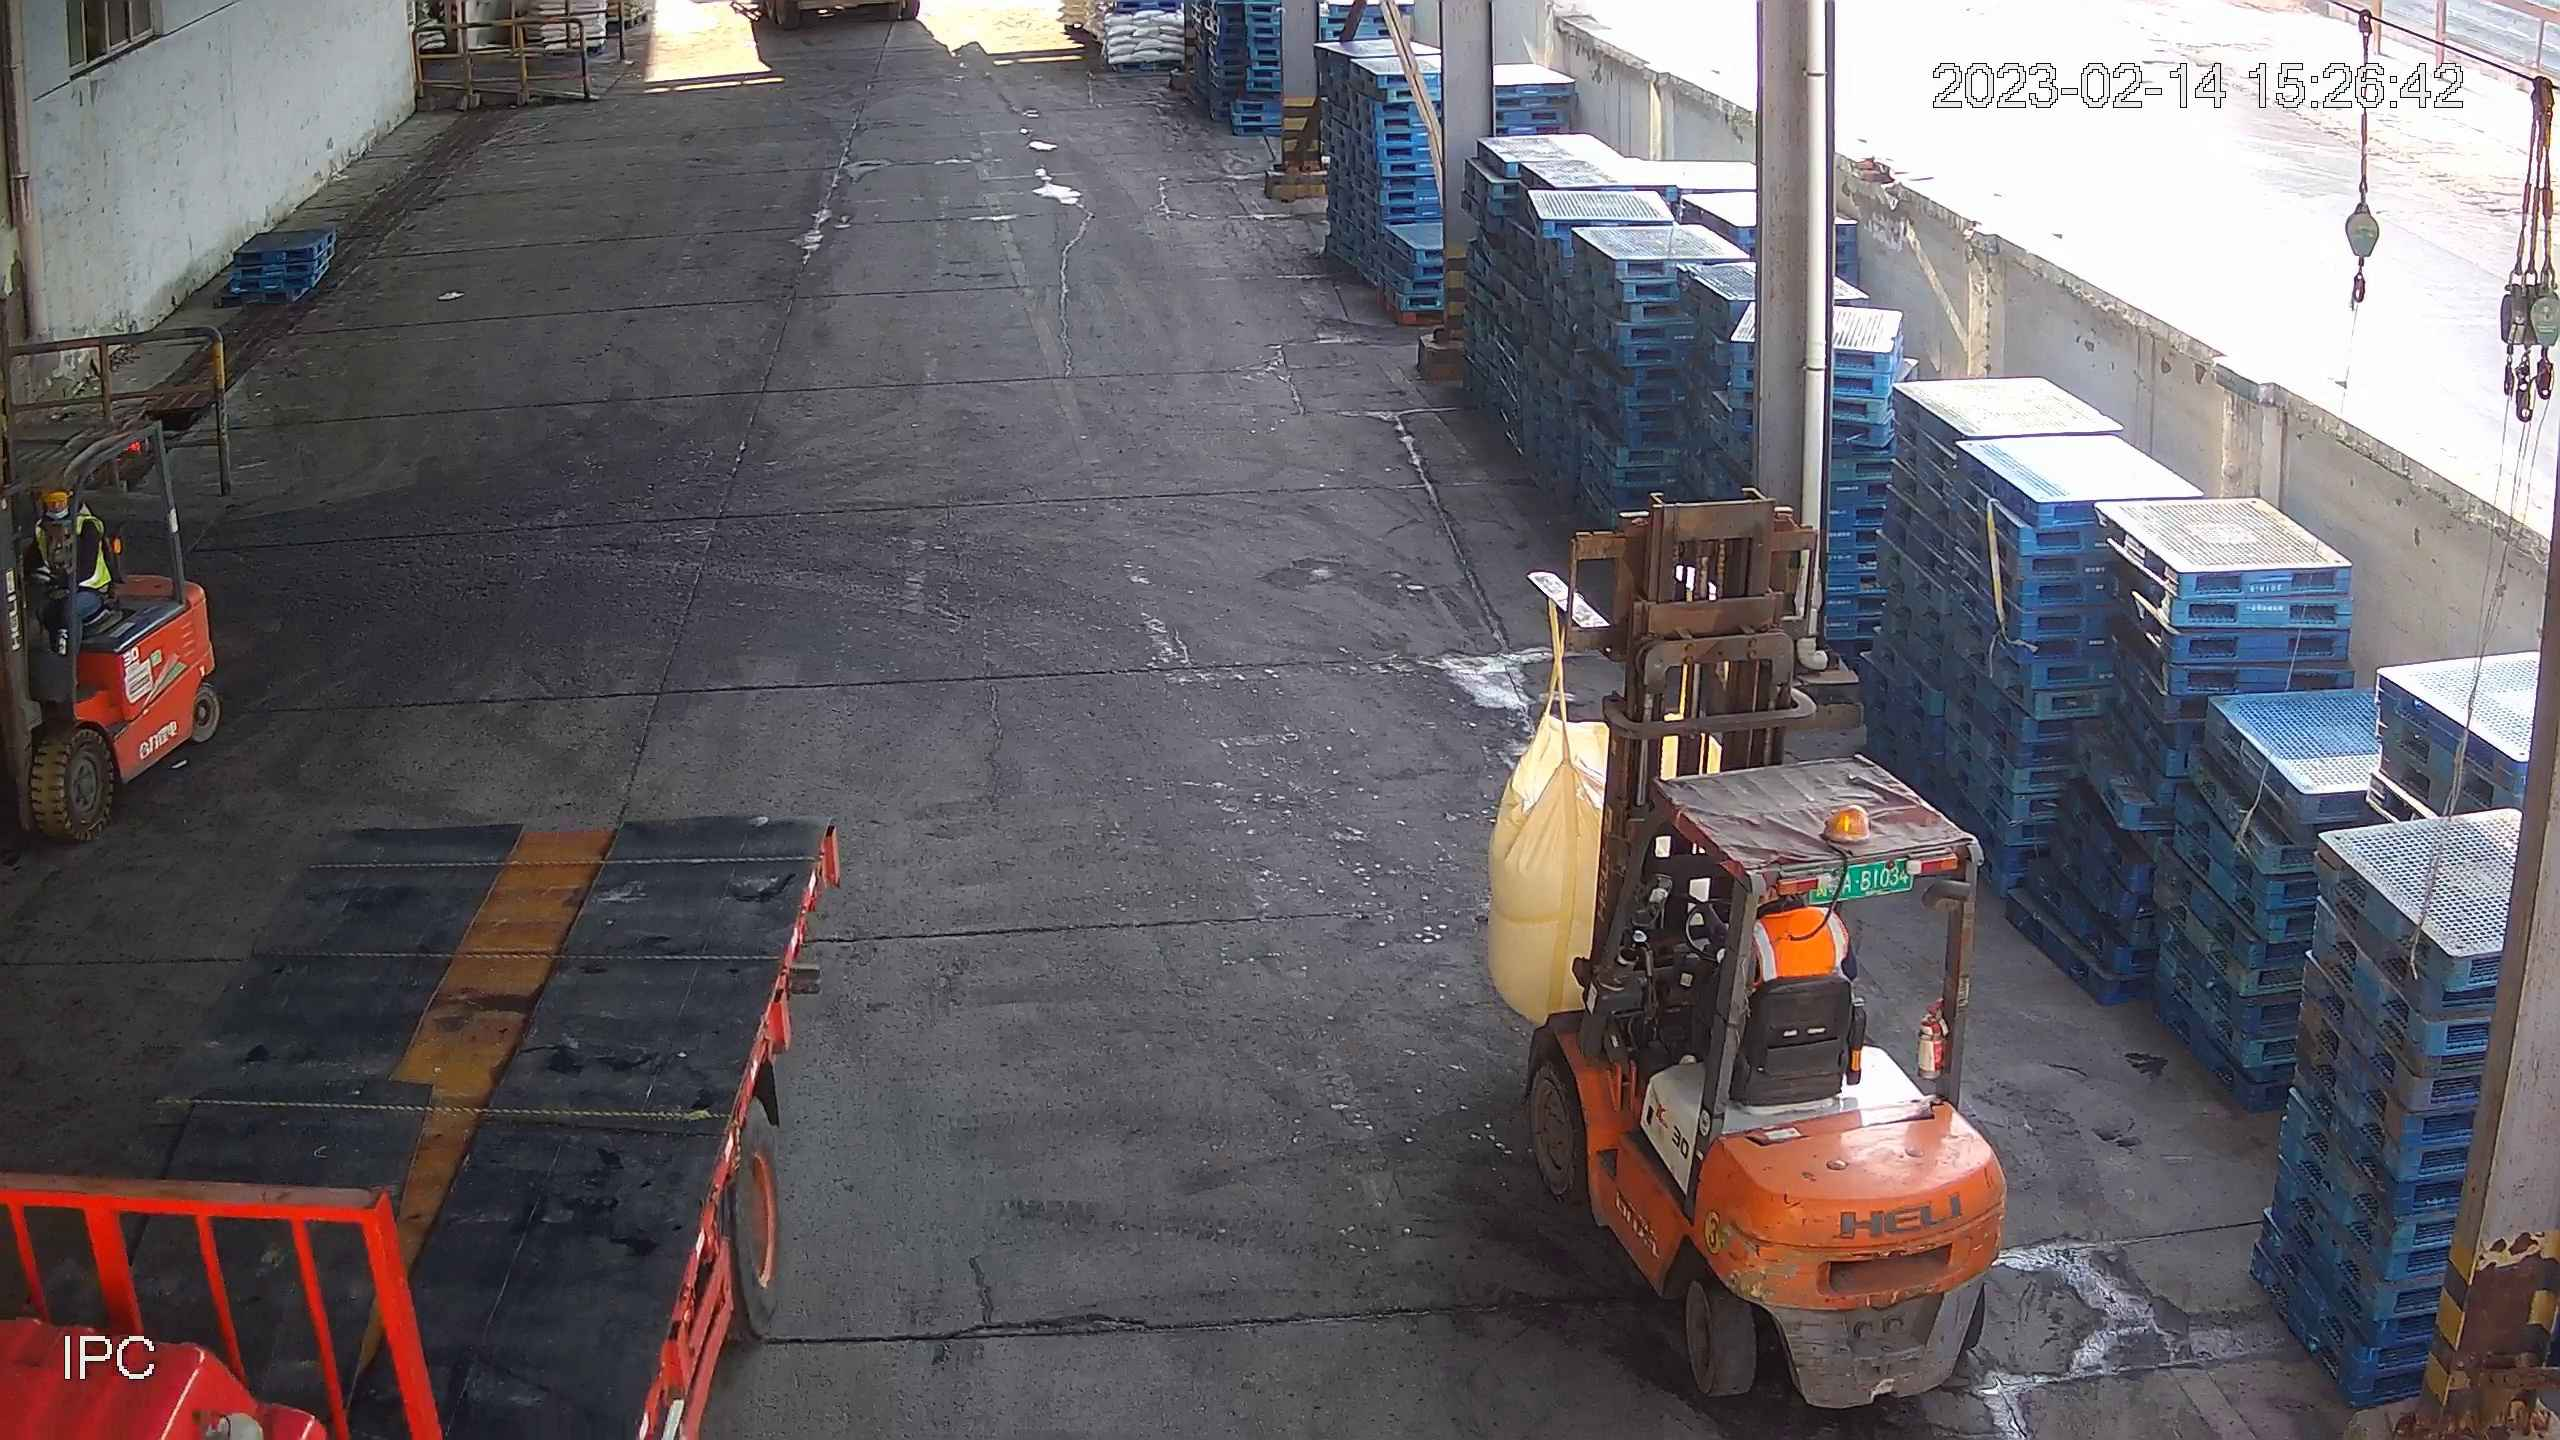truck: (2, 814, 897, 1440)
